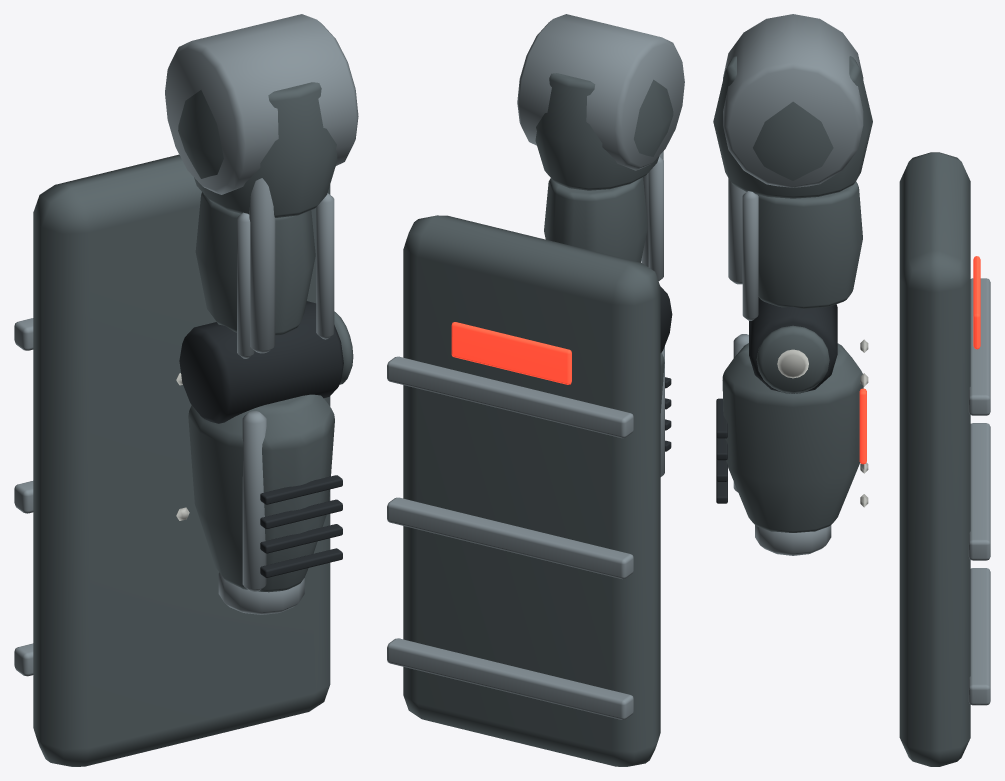
The model's file is arms_04.glb.
3 views of the same model, side by side, from view 1: azimuth 30°, elevation 25°; view 2: azimuth 150°, elevation 25°; view 3: azimuth 270°, elevation 25° (orthographic). The views are drawn at different scales.
Visible parts, largest first — view 1: Forearm.003_Geometry, UpperArm.003_Geometry, Shoulder bearing.003; view 2: Forearm.003_Geometry, UpperArm.003_Geometry, Shoulder bearing.003; view 3: Forearm.003_Geometry, UpperArm.003_Geometry, Shoulder bearing.003.
Boxes of the visible parts, left/top/right/bottom form: Forearm.003_Geometry: left=14, top=154, right=353, bottom=766; UpperArm.003_Geometry: left=178, top=82, right=343, bottom=423; Shoulder bearing.003: left=165, top=14, right=358, bottom=194; Forearm.003_Geometry: left=387, top=215, right=671, bottom=766; UpperArm.003_Geometry: left=535, top=73, right=673, bottom=352; Shoulder bearing.003: left=517, top=14, right=684, bottom=170; Forearm.003_Geometry: left=716, top=152, right=990, bottom=766; UpperArm.003_Geometry: left=713, top=56, right=872, bottom=393; Shoulder bearing.003: left=723, top=14, right=863, bottom=187.
Size of the model in its own units: 0.33 by 0.844 by 0.3125.
